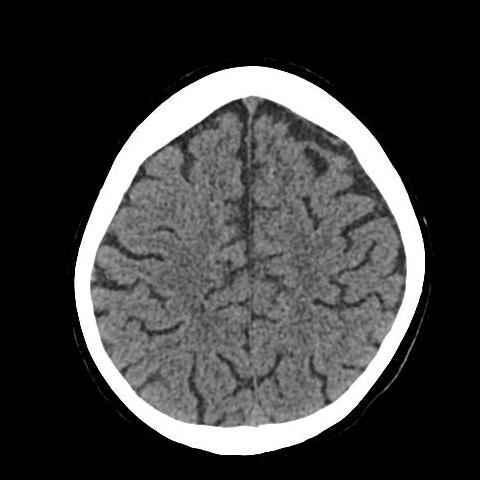Cancer: (283, 144, 347, 183)
